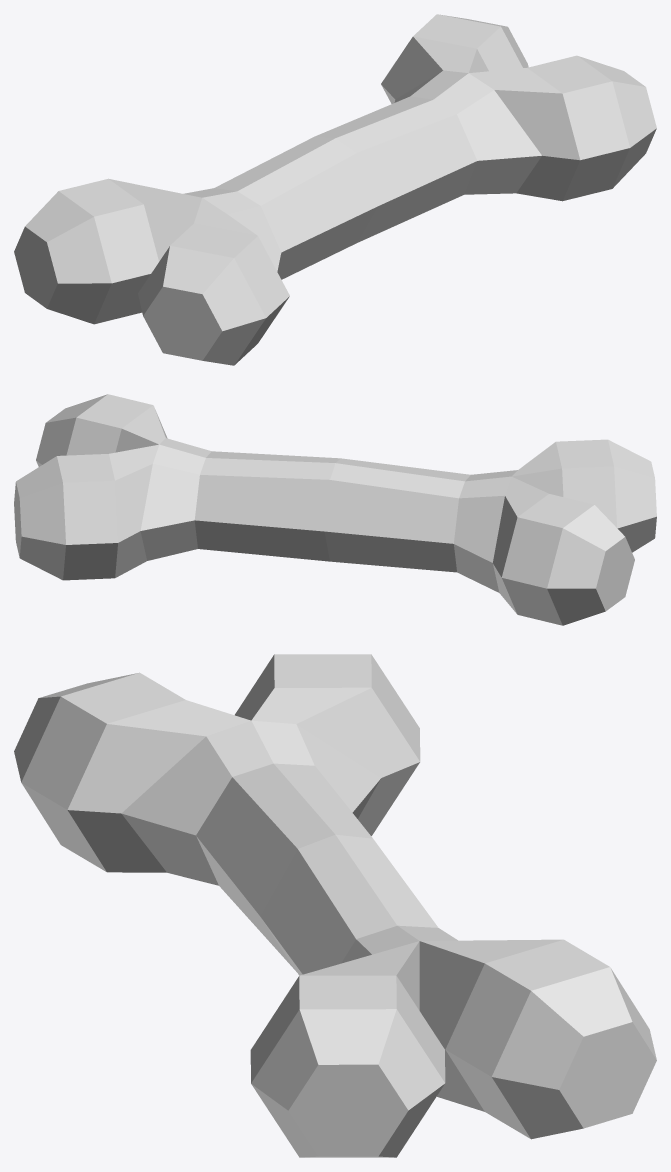
File: Skeleton 5.fbx
The picture shows the model from 3 angles, top to bottom: view 1: azimuth 30°, elevation 25°; view 2: azimuth 150°, elevation 25°; view 3: azimuth 270°, elevation 25°; orthographic projection. The views are drawn at different scales.
Parts seen in each view (by area): view 1: Skeleton 5; view 2: Skeleton 5; view 3: Skeleton 5.
Part boxes in pixels (left/top/right/bottom): Skeleton 5: left=14, top=14, right=656, bottom=365; Skeleton 5: left=14, top=394, right=656, bottom=625; Skeleton 5: left=14, top=654, right=656, bottom=1157.
Bounding box in the file's own units: 7.22 × 1.24 × 4.79.
